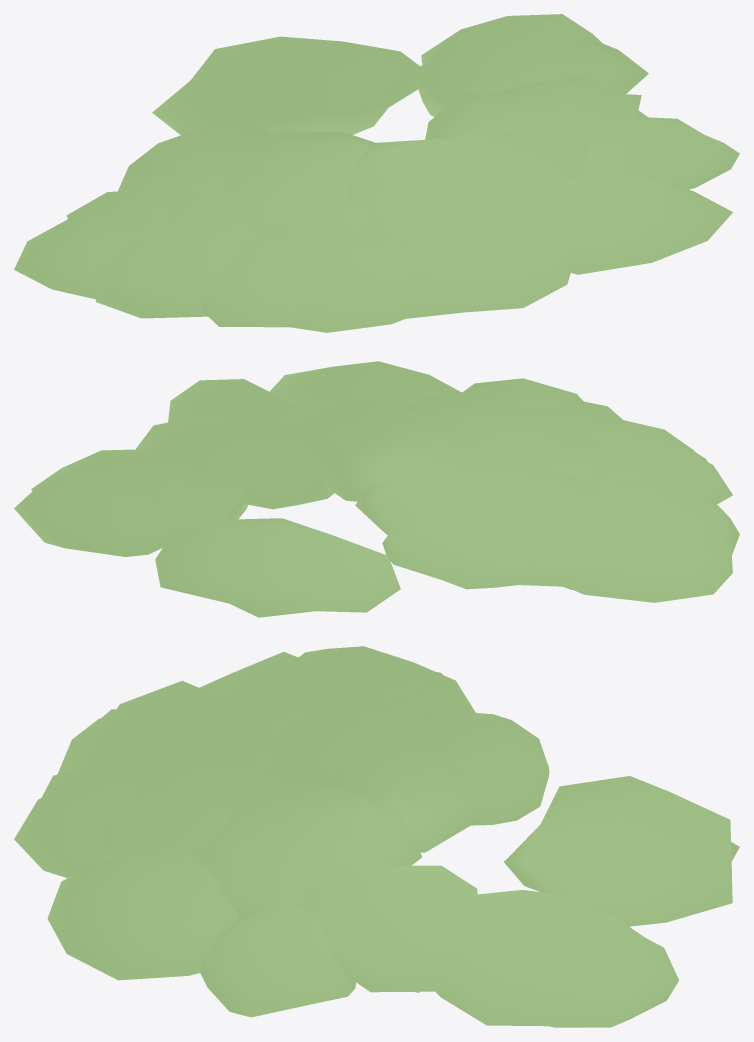
The model's file is Blender_LakeJuniper_2.glb.
The picture shows the model from 3 angles, top to bottom: view 1: azimuth 30°, elevation 25°; view 2: azimuth 150°, elevation 25°; view 3: azimuth 270°, elevation 25°; orthographic projection. The views are drawn at different scales.
Parts seen in each view (by area): view 1: Blender_LakeJuniper_2; view 2: Blender_LakeJuniper_2; view 3: Blender_LakeJuniper_2.
Part boxes in pixels (box(x1,y1,x2,y2)): Blender_LakeJuniper_2: box(14, 14, 739, 332); Blender_LakeJuniper_2: box(14, 361, 739, 617); Blender_LakeJuniper_2: box(14, 646, 739, 1027).
Size of the model in its own units: 4.09 by 0.3455 by 3.39.
